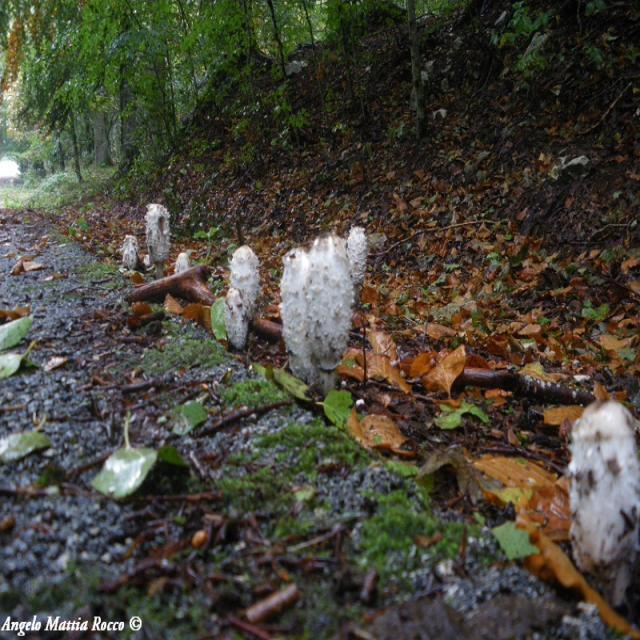Coprinus comatus: (569, 400, 640, 597), (309, 231, 355, 397), (281, 244, 317, 389), (226, 243, 258, 347), (146, 202, 175, 281), (353, 223, 369, 287), (118, 231, 137, 271)
